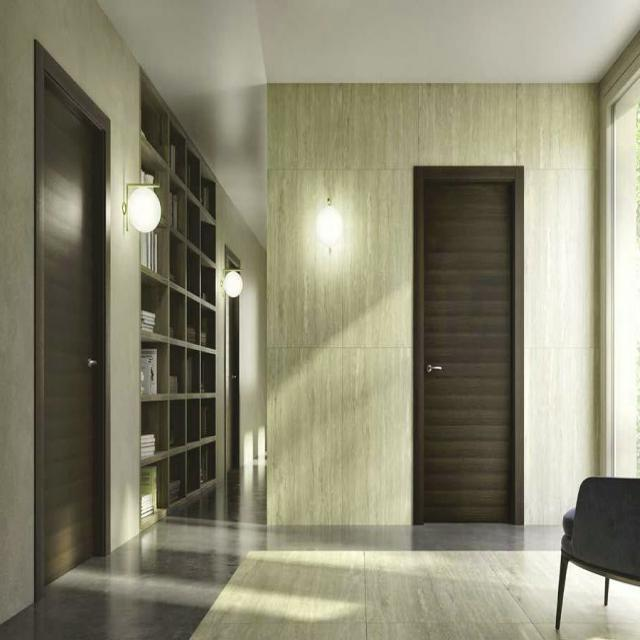door: (33, 39, 110, 597), (413, 165, 520, 524)
